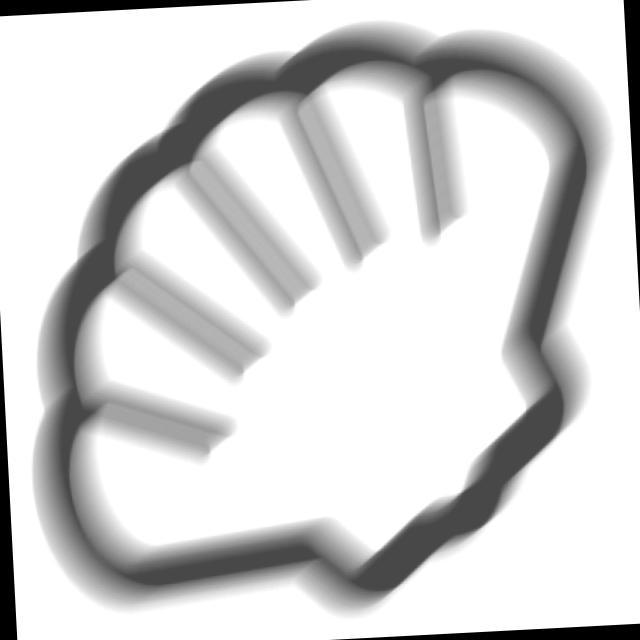shell: (1, 1, 638, 640)
